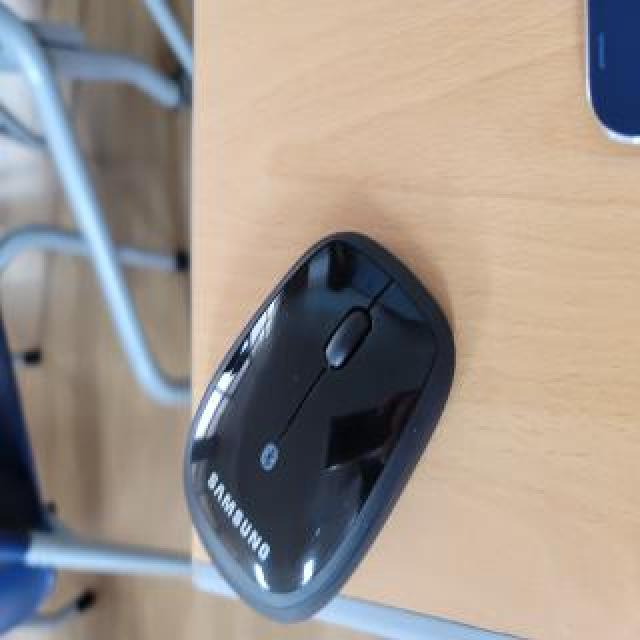mouse: (170, 185, 473, 606)
